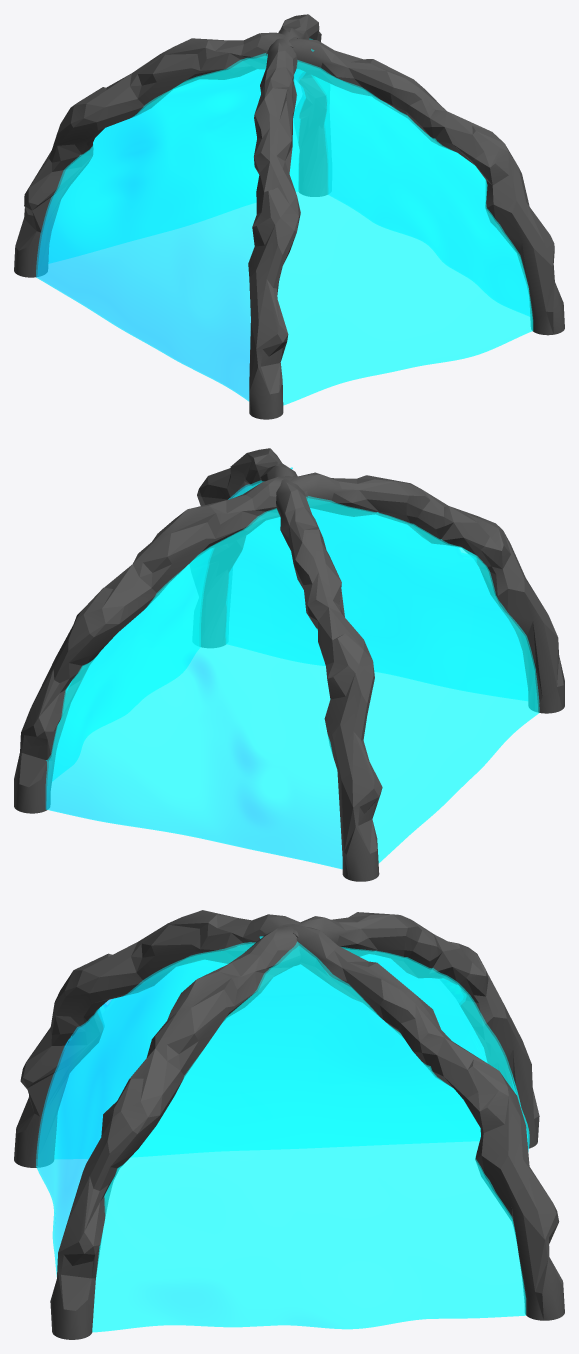
Rendered from stone.glb.
3 views of the same model, one above another, from view 1: azimuth 30°, elevation 25°; view 2: azimuth 150°, elevation 25°; view 3: azimuth 270°, elevation 25° (orthographic). The views are drawn at different scales.
Visible parts, largest first — view 1: Box001, Box003, Box002, Box004, Pillar_3, Pillar_1, Pillar_4, Pillar_2; view 2: Box002, Box003, Box001, Pillar_2, Pillar_1, Pillar_4, Box004, Pillar_3; view 3: Box004, Box003, Pillar_3, Pillar_2, Box001, Pillar_4, Pillar_1, Box002.
Part boxes in pixels (x1,y1,x2,y2): Box001: (277, 60, 533, 405); Box003: (36, 53, 267, 401); Box002: (49, 69, 305, 262); Box004: (309, 38, 529, 316); Pillar_3: (289, 38, 564, 335); Pillar_1: (14, 32, 297, 277); Pillar_4: (248, 38, 300, 419); Pillar_2: (265, 14, 328, 196); Box002: (45, 508, 342, 869); Box003: (306, 496, 539, 863); Box001: (226, 508, 527, 700); Pillar_2: (14, 476, 307, 813); Pillar_1: (276, 479, 382, 881); Pillar_4: (290, 472, 564, 713); Box004: (53, 467, 292, 780); Pillar_3: (197, 448, 297, 647); Box004: (92, 936, 526, 1332); Box003: (55, 954, 486, 1158); Pillar_3: (50, 926, 300, 1339); Pillar_2: (279, 924, 564, 1320); Box001: (36, 942, 255, 1276); Pillar_4: (14, 910, 300, 1167); Pillar_1: (292, 912, 539, 1148); Box002: (341, 947, 529, 1151).
Size of the model in its own units: 194 by 139 by 218.
